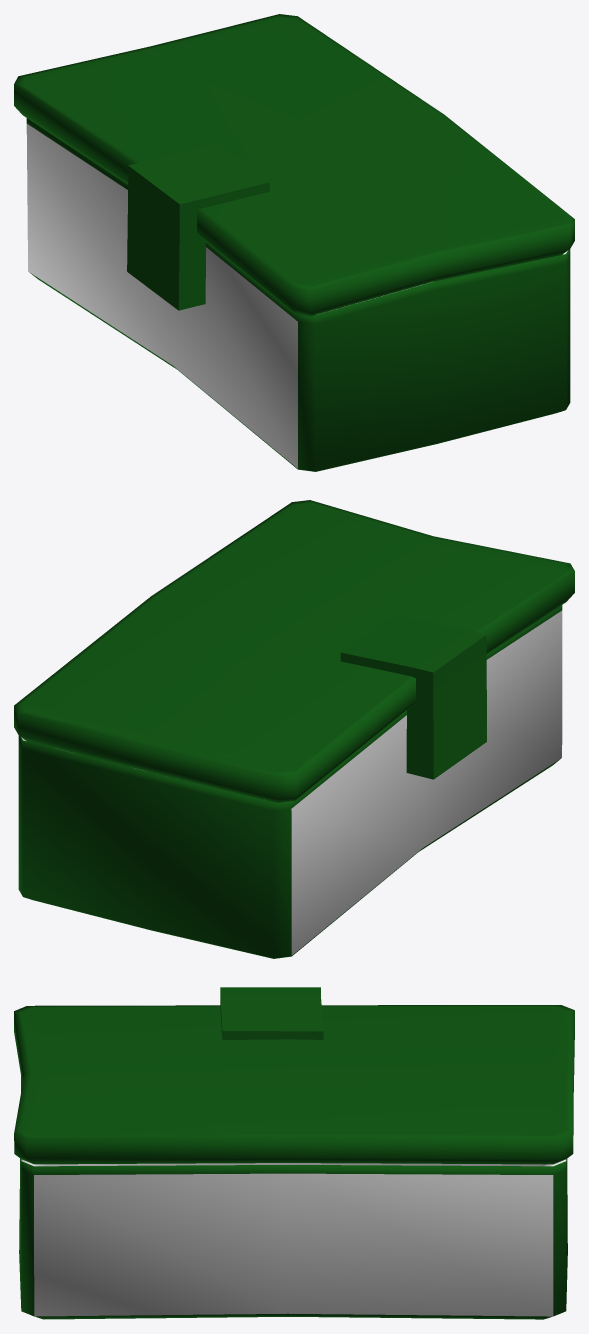
The model's file is crate1.glb.
The picture shows the model from 3 angles, top to bottom: view 1: azimuth 30°, elevation 25°; view 2: azimuth 150°, elevation 25°; view 3: azimuth 270°, elevation 25°; orthographic projection. The views are drawn at different scales.
Parts seen in each view (by area): view 1: lid, crate; view 2: lid, crate; view 3: lid, crate.
Boxes of the visible parts, <box> form: lid: <box>14,14,574,315</box>; crate: <box>26,118,570,471</box>; lid: <box>14,500,574,802</box>; crate: <box>18,605,562,958</box>; lid: <box>14,987,574,1164</box>; crate: <box>19,1076,567,1319</box>.
Bounding box in the file's own units: 1.22 × 0.7956 × 2.05.
